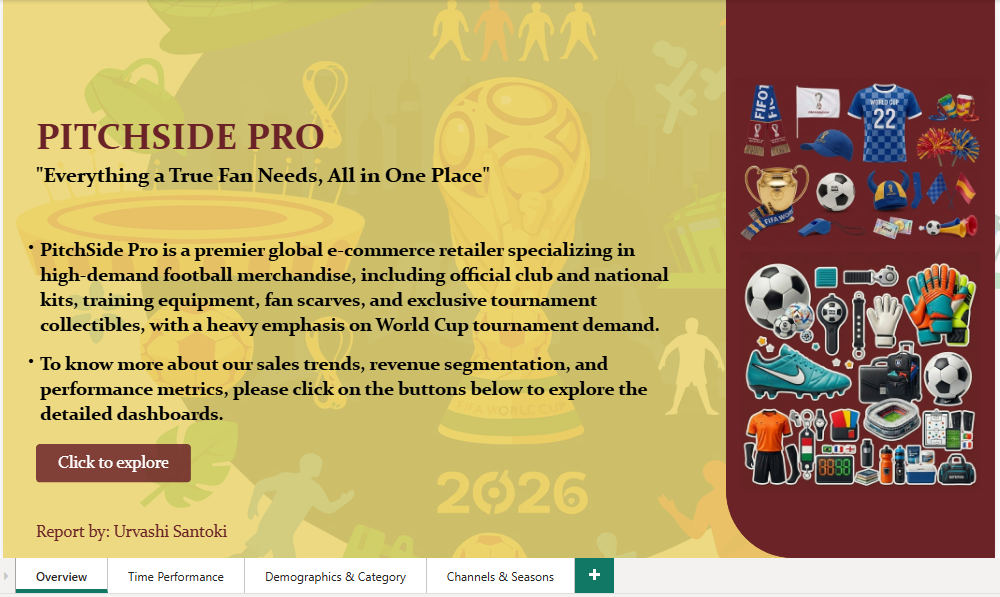

Layout of this report page (visuals, bound fields, positions):
{"tool":"powerbi","page":{"name":"Overview","canvas":[1280,720],"ordinal":0},"visuals":[{"type":"textbox","box":[42.5,146,398.3,63.8],"z":0},{"type":"shape","box":[932.6,0,347.2,720],"z":1000},{"type":"textbox","box":[42.5,209.8,599.5,42.5],"z":2000},{"type":"textbox","box":[11.3,304.7,858.9,256.5],"z":3000},{"type":"actionButton","box":[42.5,572.6,199.8,49.6],"z":4000},{"type":"image","box":[942.5,324.6,328.8,309],"z":5000},{"type":"image","box":[942.5,75.1,328.8,267.9],"z":6000},{"type":"textbox","box":[42.5,671.8,267.9,35.4],"z":7000}]}

Visuals, with their boxes on the page's 1280x720 design canvas (x1, y1, x2, y2). These are canvas units, not pixel positions in the 1000x597 screenshot, which may show the page scaled, cropped or inside an application window:
textbox: select_region(42, 146, 441, 210)
shape: select_region(933, 0, 1280, 720)
textbox: select_region(42, 210, 642, 252)
textbox: select_region(11, 305, 870, 561)
actionButton: select_region(42, 573, 242, 622)
image: select_region(942, 325, 1271, 634)
image: select_region(942, 75, 1271, 343)
textbox: select_region(42, 672, 310, 707)
